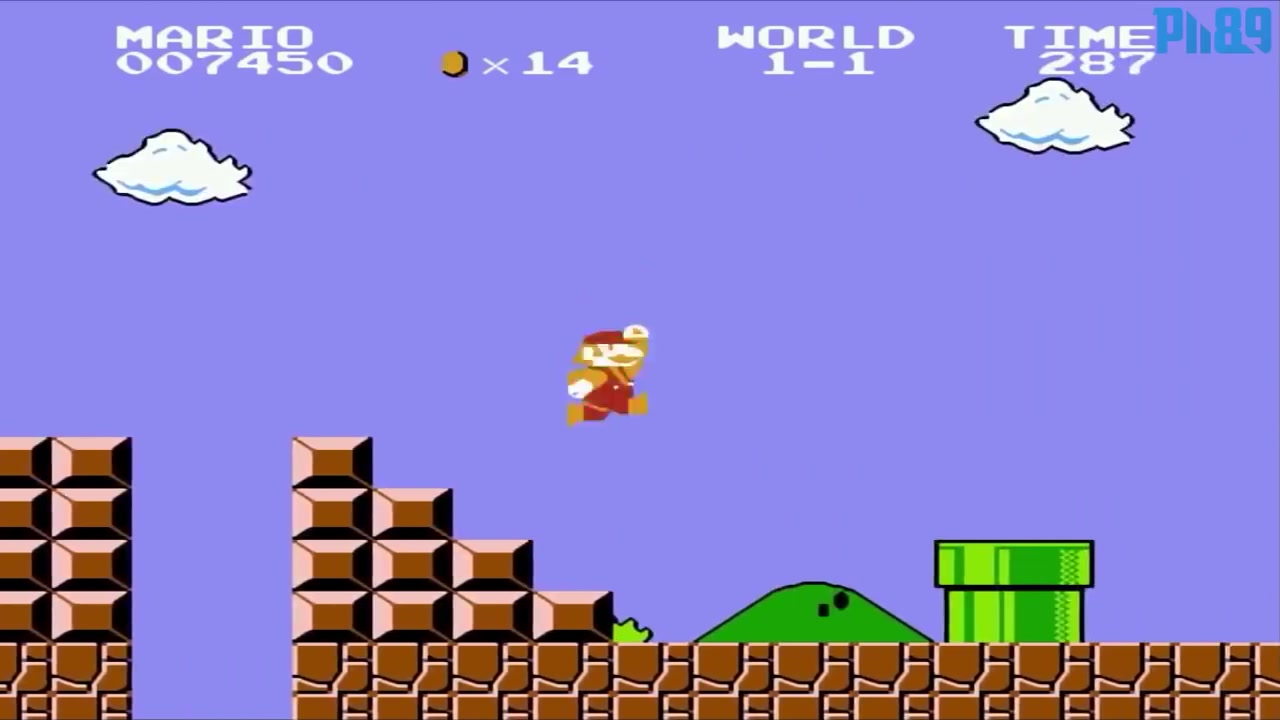mario: (563, 325, 671, 424)
